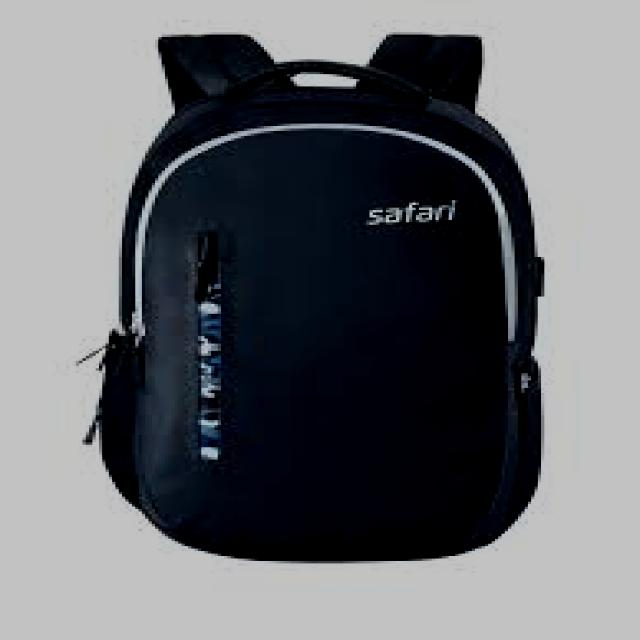backpack: (81, 31, 546, 563)
